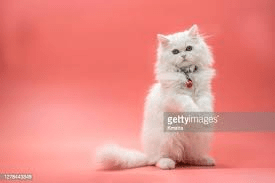cat: (151, 29, 222, 113)
